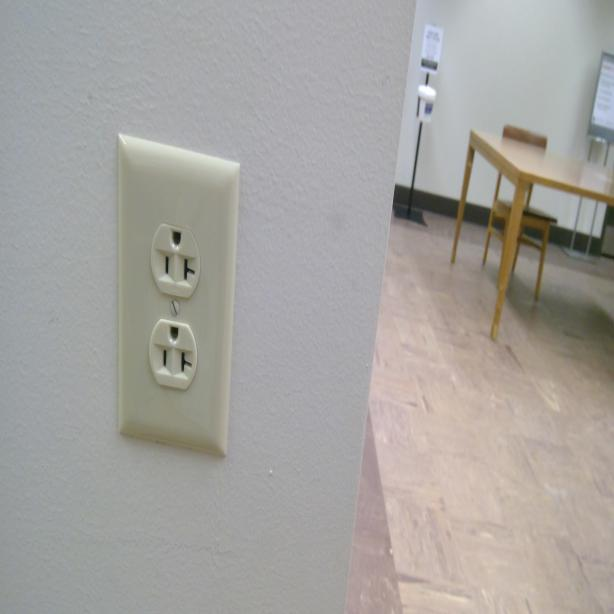typeb: (151, 225, 200, 297), (149, 317, 198, 388)
